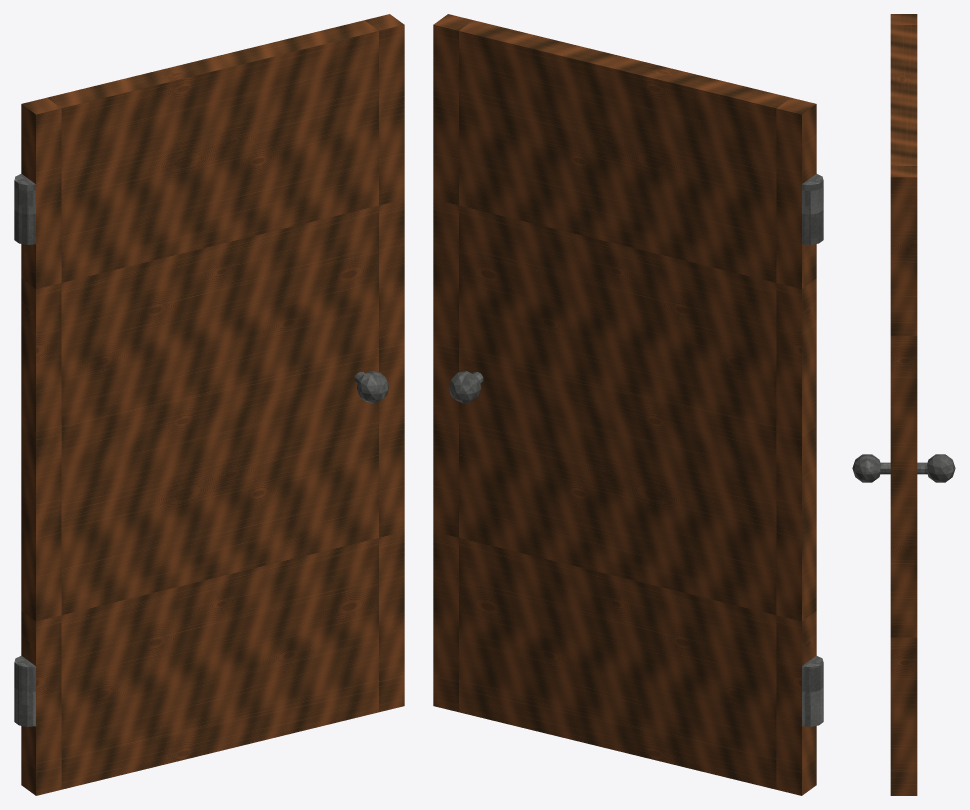
Rendered from log_cabin_door.fbx.
3 views of the same model, side by side, from view 1: azimuth 30°, elevation 25°; view 2: azimuth 150°, elevation 25°; view 3: azimuth 270°, elevation 25° (orthographic). The views are drawn at different scales.
Visible parts, largest first — view 1: LogCabinDoorMesh; view 2: LogCabinDoorMesh; view 3: LogCabinDoorMesh.
Part boxes in pixels (bbox=[...]): LogCabinDoorMesh: bbox=[14, 14, 404, 795]; LogCabinDoorMesh: bbox=[433, 14, 823, 795]; LogCabinDoorMesh: bbox=[852, 14, 955, 795].
Bounding box in the file's own units: 3.04 × 0.7874 × 5.21.
